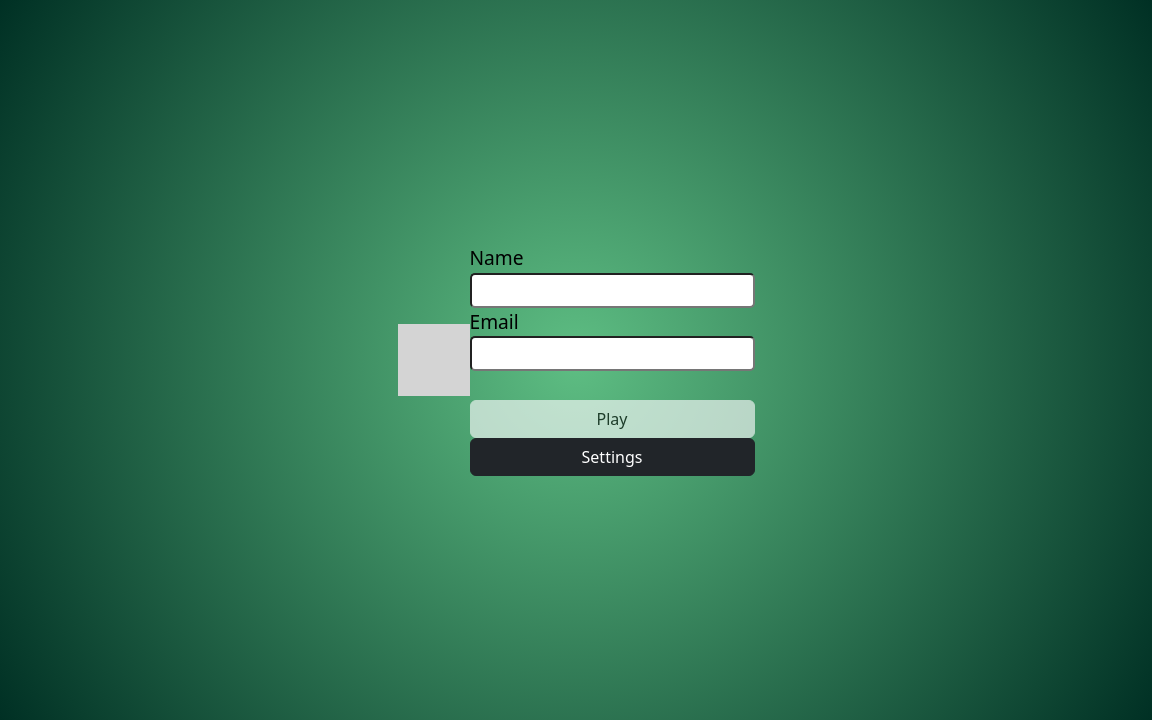
Scenario: Teste da página Login › Verifica se os inputs estão renderizados
Expected: the field with test id "input-gravatar-email" is shown, [470, 336, 754, 371]
Expected: the button with test id "btn-settings" is shown, [470, 438, 754, 476]
Type "Lucas" into the field with test id "input-player-name".
click(612, 290); type("Lucas")  # box [470, 273, 754, 308]
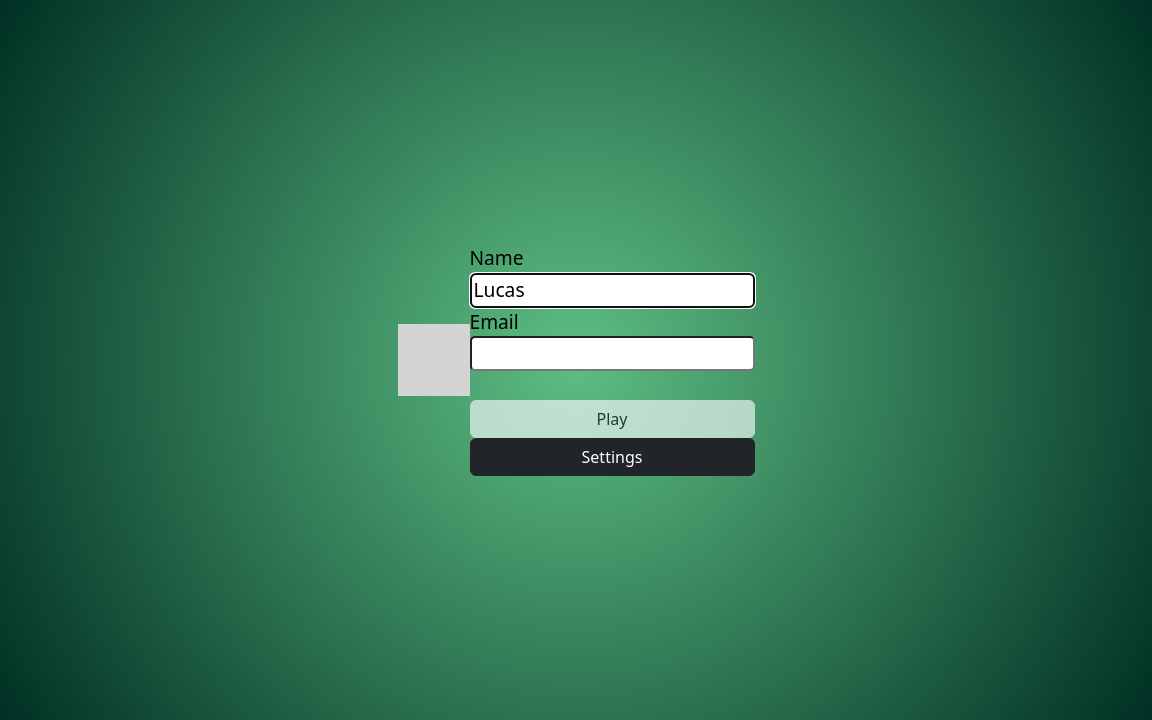
Type "lucaslindao@hotmail.com" into the field with test id "input-gravatar-email".
click(612, 354); type("lucaslindao@hotmail.com")  # box [470, 336, 754, 371]
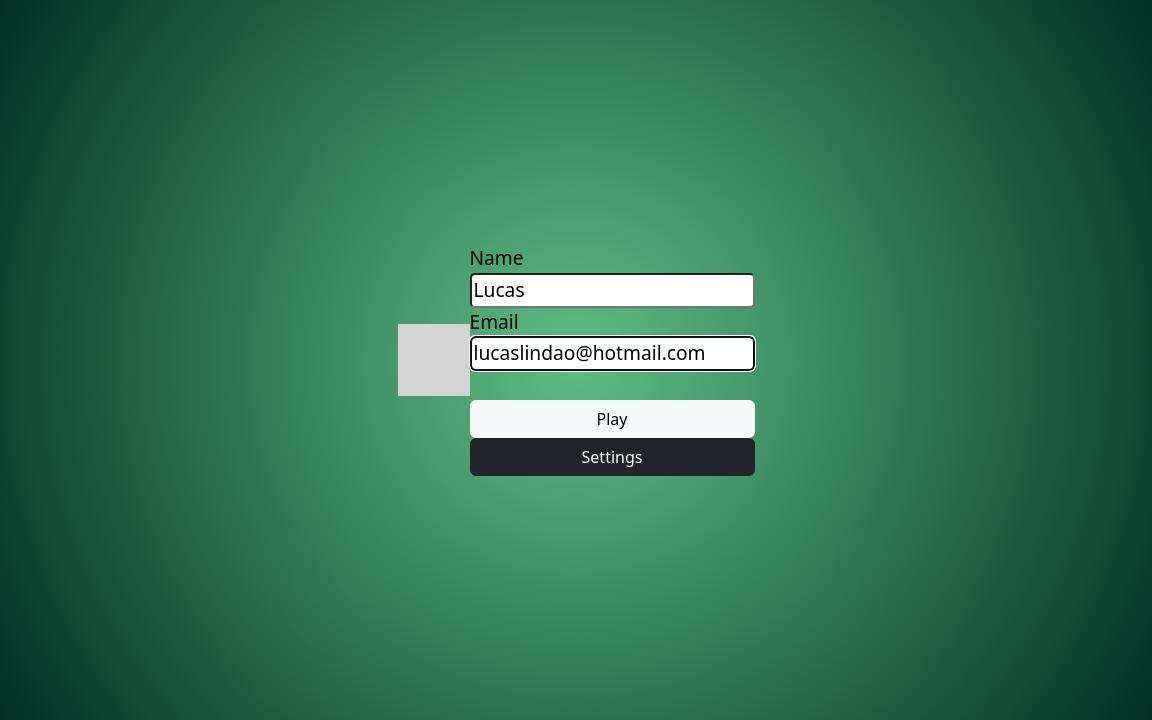
Expected: the button with test id "btn-play" is enabled, [470, 400, 754, 438]
